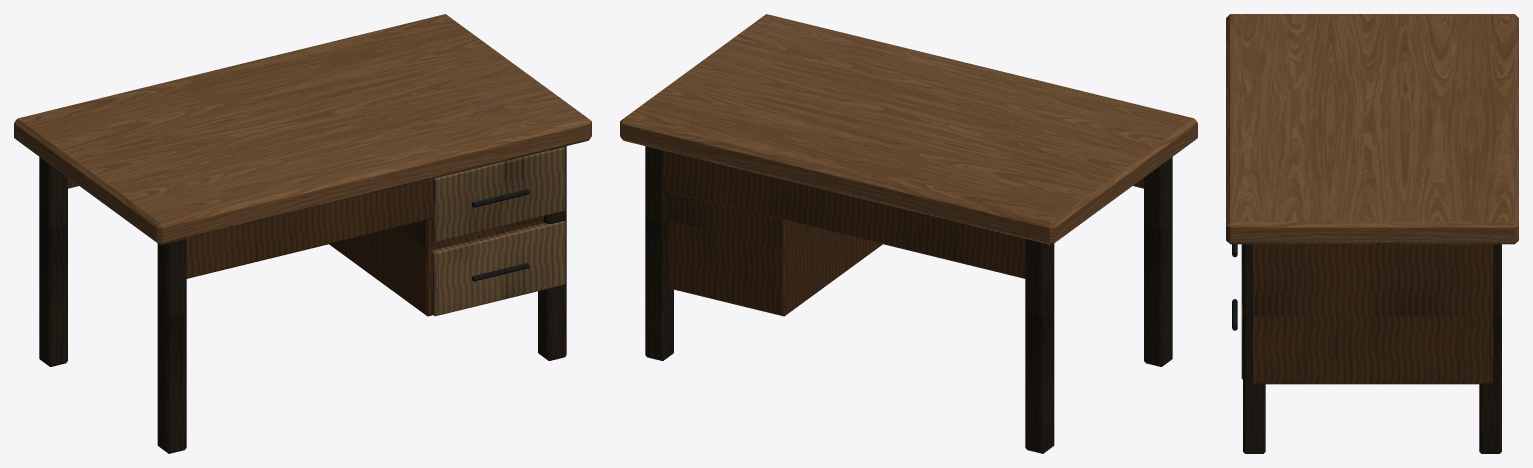
The model's file is desk_023_oak_veneer01_w2_comparison.glb.
The picture shows the model from 3 angles, left to right: view 1: azimuth 30°, elevation 25°; view 2: azimuth 150°, elevation 25°; view 3: azimuth 270°, elevation 25°; orthographic projection.
Visible parts, largest first — view 1: REUSE__desk__023; view 2: REUSE__desk__023; view 3: REUSE__desk__023.
Boxes of the visible parts, x1,y1,x2,y2 form: REUSE__desk__023: (14,14,591,453); REUSE__desk__023: (620,14,1197,453); REUSE__desk__023: (1226,14,1518,453).
Bounding box in the file's own units: 1.42 × 0.75 × 0.83.
6 materials, 6 textured.
